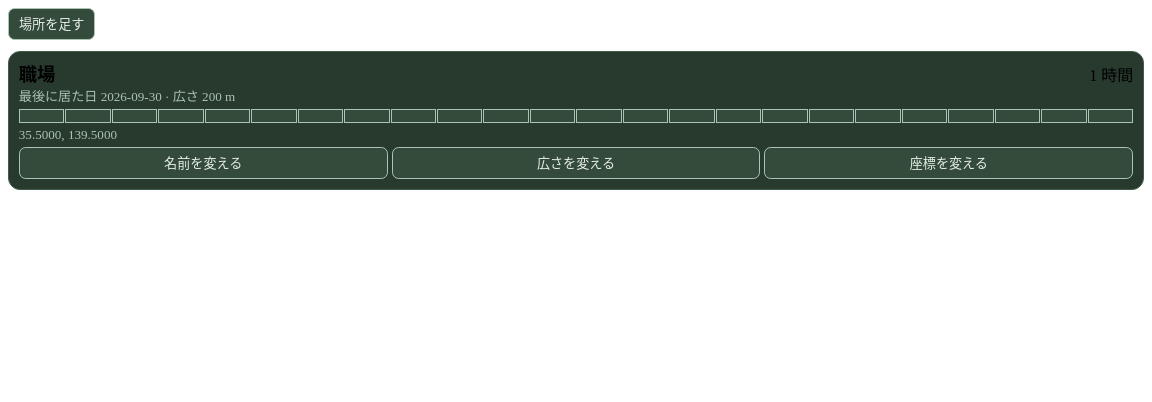
places-change: 座標を変える › 居た所が選択肢で、緯度経度の欄も位置の操作も無い。登録した場所の座標は選択肢に出ない
Click the button "座標を変える": (949, 163) [764, 147, 1133, 179]
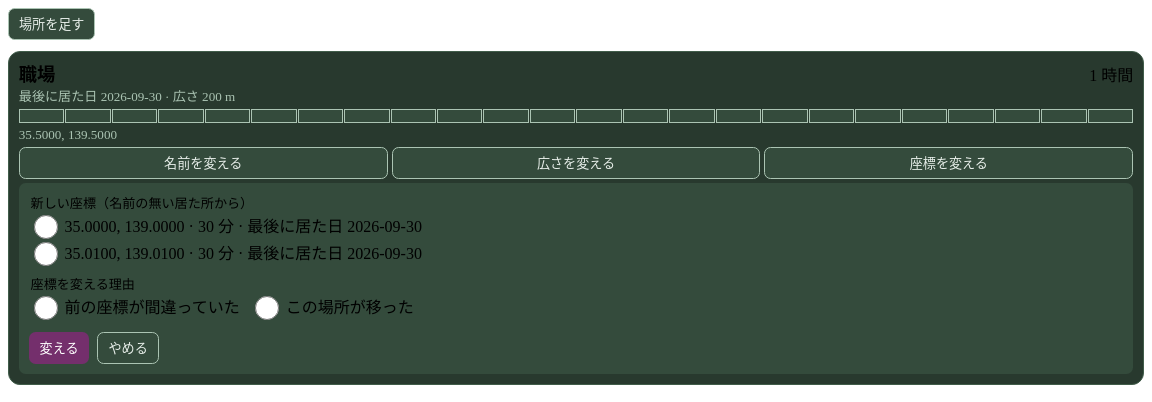
Check: the number of labels with test id "coord-option" is 2, box [34, 215, 422, 239]; [34, 242, 422, 266]
